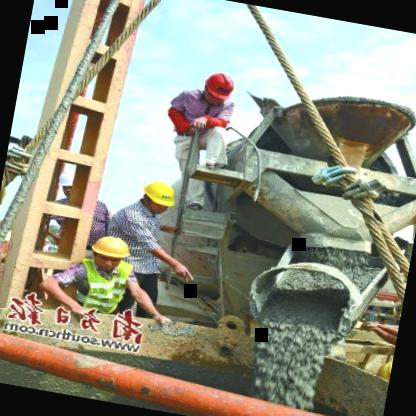helmet: (84, 228, 134, 274), (198, 66, 241, 110), (137, 176, 181, 218), (52, 164, 93, 204)
